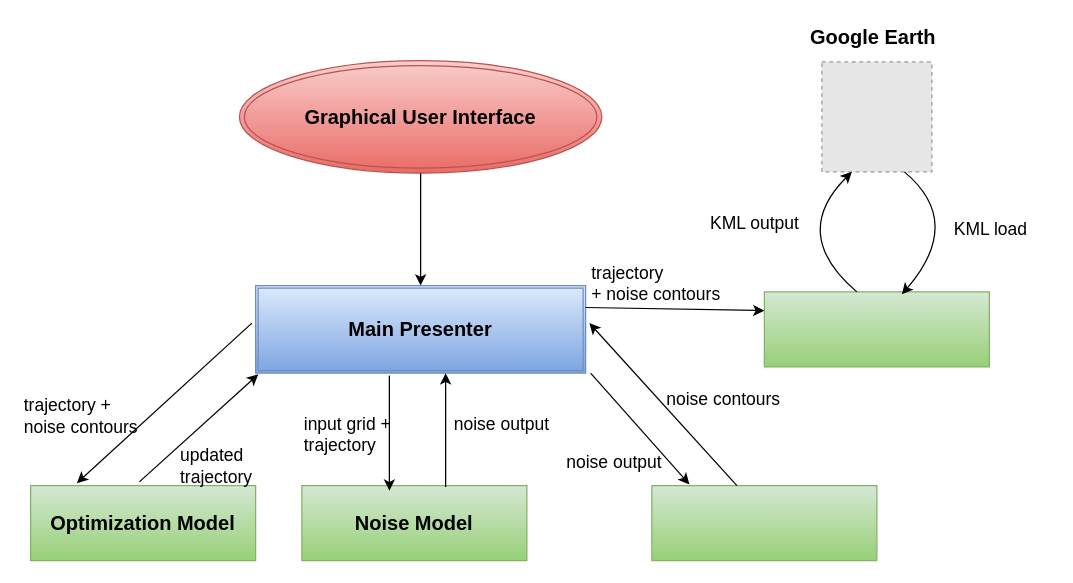
Image size: 1073x583. Some labels were removed from this diagram. Grey dashed boxes stand in for pictures. The box of each missing label's shape, as (x1, y1, x2, y2) in pixels:
KML Writer: (763, 291, 989, 367)
Visualization Model: (651, 484, 877, 561)
